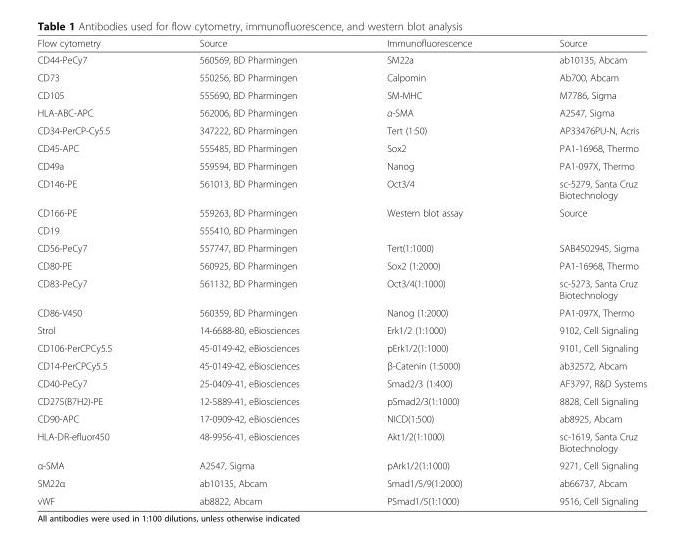table: (36, 37, 646, 506)
table column: (155, 37, 342, 506), (342, 37, 515, 506), (515, 37, 646, 506), (36, 37, 155, 506)
table column header: (36, 37, 646, 51)
table row: (36, 174, 646, 203), (36, 274, 646, 303), (36, 427, 646, 455), (36, 85, 646, 103), (36, 103, 646, 121), (36, 121, 646, 139), (36, 156, 646, 174), (36, 203, 646, 221), (36, 238, 646, 256), (36, 256, 646, 274), (36, 303, 646, 321), (36, 338, 646, 356), (36, 356, 646, 374), (36, 391, 646, 409), (36, 409, 646, 427), (36, 455, 646, 473), (36, 473, 646, 491), (36, 51, 646, 68), (36, 68, 646, 85), (36, 139, 646, 156), (36, 221, 646, 238), (36, 321, 646, 338), (36, 374, 646, 391), (36, 491, 646, 506), (36, 37, 646, 51)
table spanning cell: (342, 203, 515, 238), (515, 203, 646, 238)
